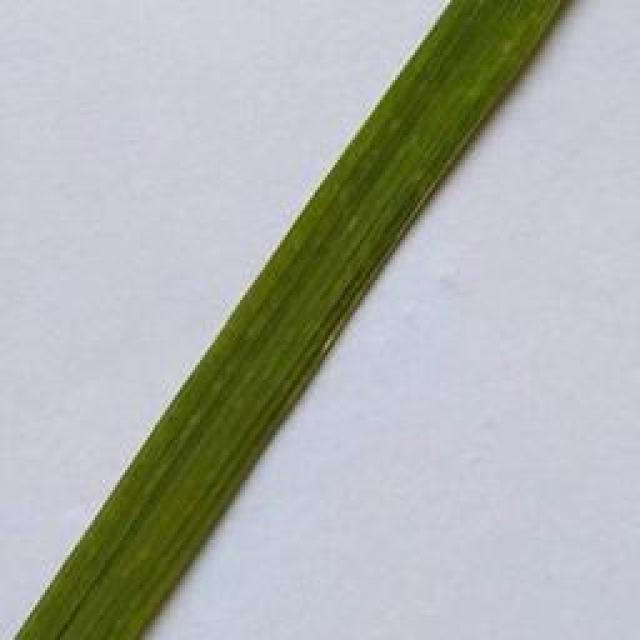Healthy-Plant: (19, 0, 572, 640)
